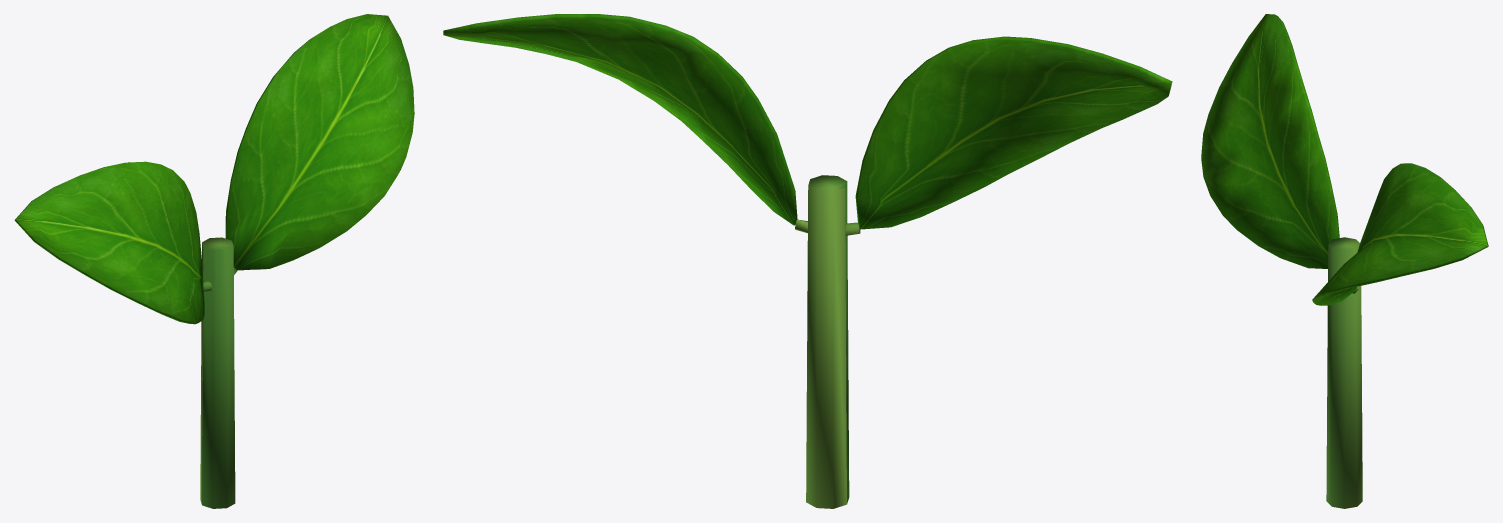
Rendered from NP_Rose_Sprout_LOD1.fbx.
3 renders of one model, left to right at view 1: azimuth 30°, elevation 25°; view 2: azimuth 150°, elevation 25°; view 3: azimuth 270°, elevation 25°, orthographic. The views are drawn at different scales.
Visible parts, largest first — view 1: NP_Rose_Sprout; view 2: NP_Rose_Sprout; view 3: NP_Rose_Sprout.
Boxes of the visible parts, x1,y1,x2,y2 form: NP_Rose_Sprout: (14, 14, 414, 508); NP_Rose_Sprout: (443, 14, 1172, 508); NP_Rose_Sprout: (1201, 14, 1488, 508).
Bounding box in the file's own units: 24.54 × 19.18 × 12.67.
